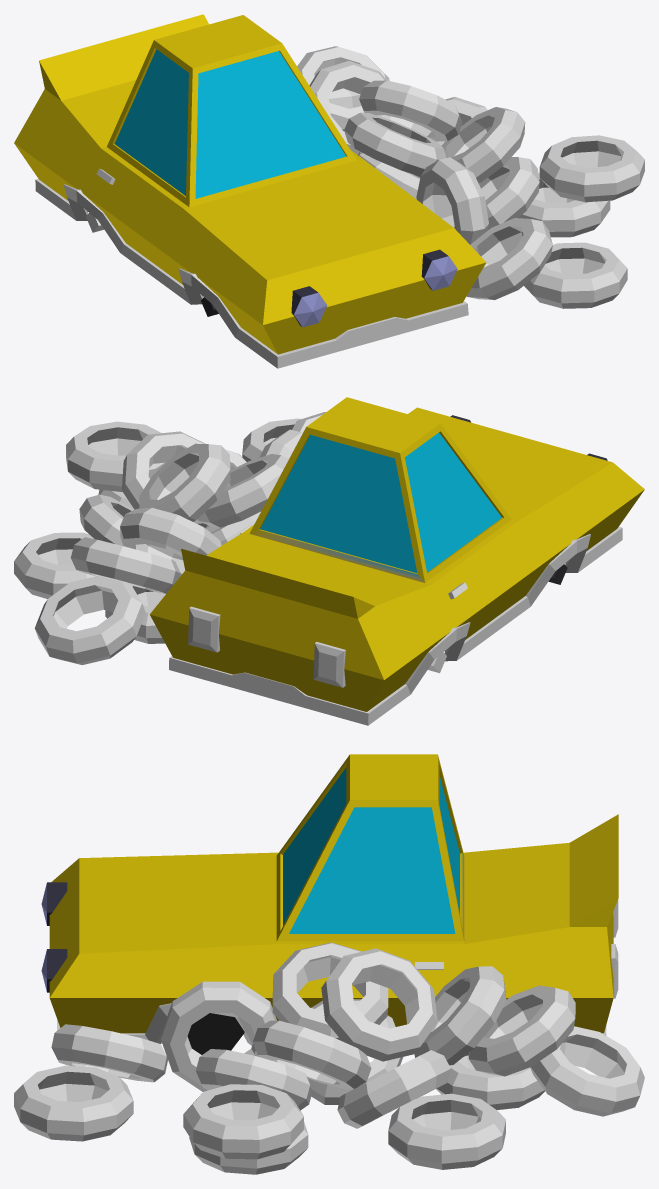
Rendered from Car and wheels.fbx.
3 renders of one model, top to bottom at view 1: azimuth 30°, elevation 25°; view 2: azimuth 150°, elevation 25°; view 3: azimuth 270°, elevation 25°, orthographic. The views are drawn at different scales.
Visible parts, largest first — view 1: Body, Wheels, Bumper, Front_lights; view 2: Body, Wheels, Bumper, Back_lights; view 3: Body, Wheels, Front_wheels, Front_lights, Bumper.
Part boxes in pixels (x1,y1,x2,y2): Body: (14, 14, 486, 354); Wheels: (297, 46, 644, 308); Bumper: (35, 179, 468, 368); Front_lights: (291, 249, 457, 327); Body: (149, 397, 644, 711); Wheels: (14, 412, 325, 664); Bumper: (169, 526, 622, 725); Back_lights: (188, 606, 345, 687); Body: (49, 754, 618, 1033); Wheels: (14, 942, 644, 1174); Front_wheels: (187, 1013, 244, 1054); Front_lights: (41, 882, 67, 992); Bumper: (57, 1003, 606, 1045).
Size of the model in its own units: 414 by 170 by 431.
